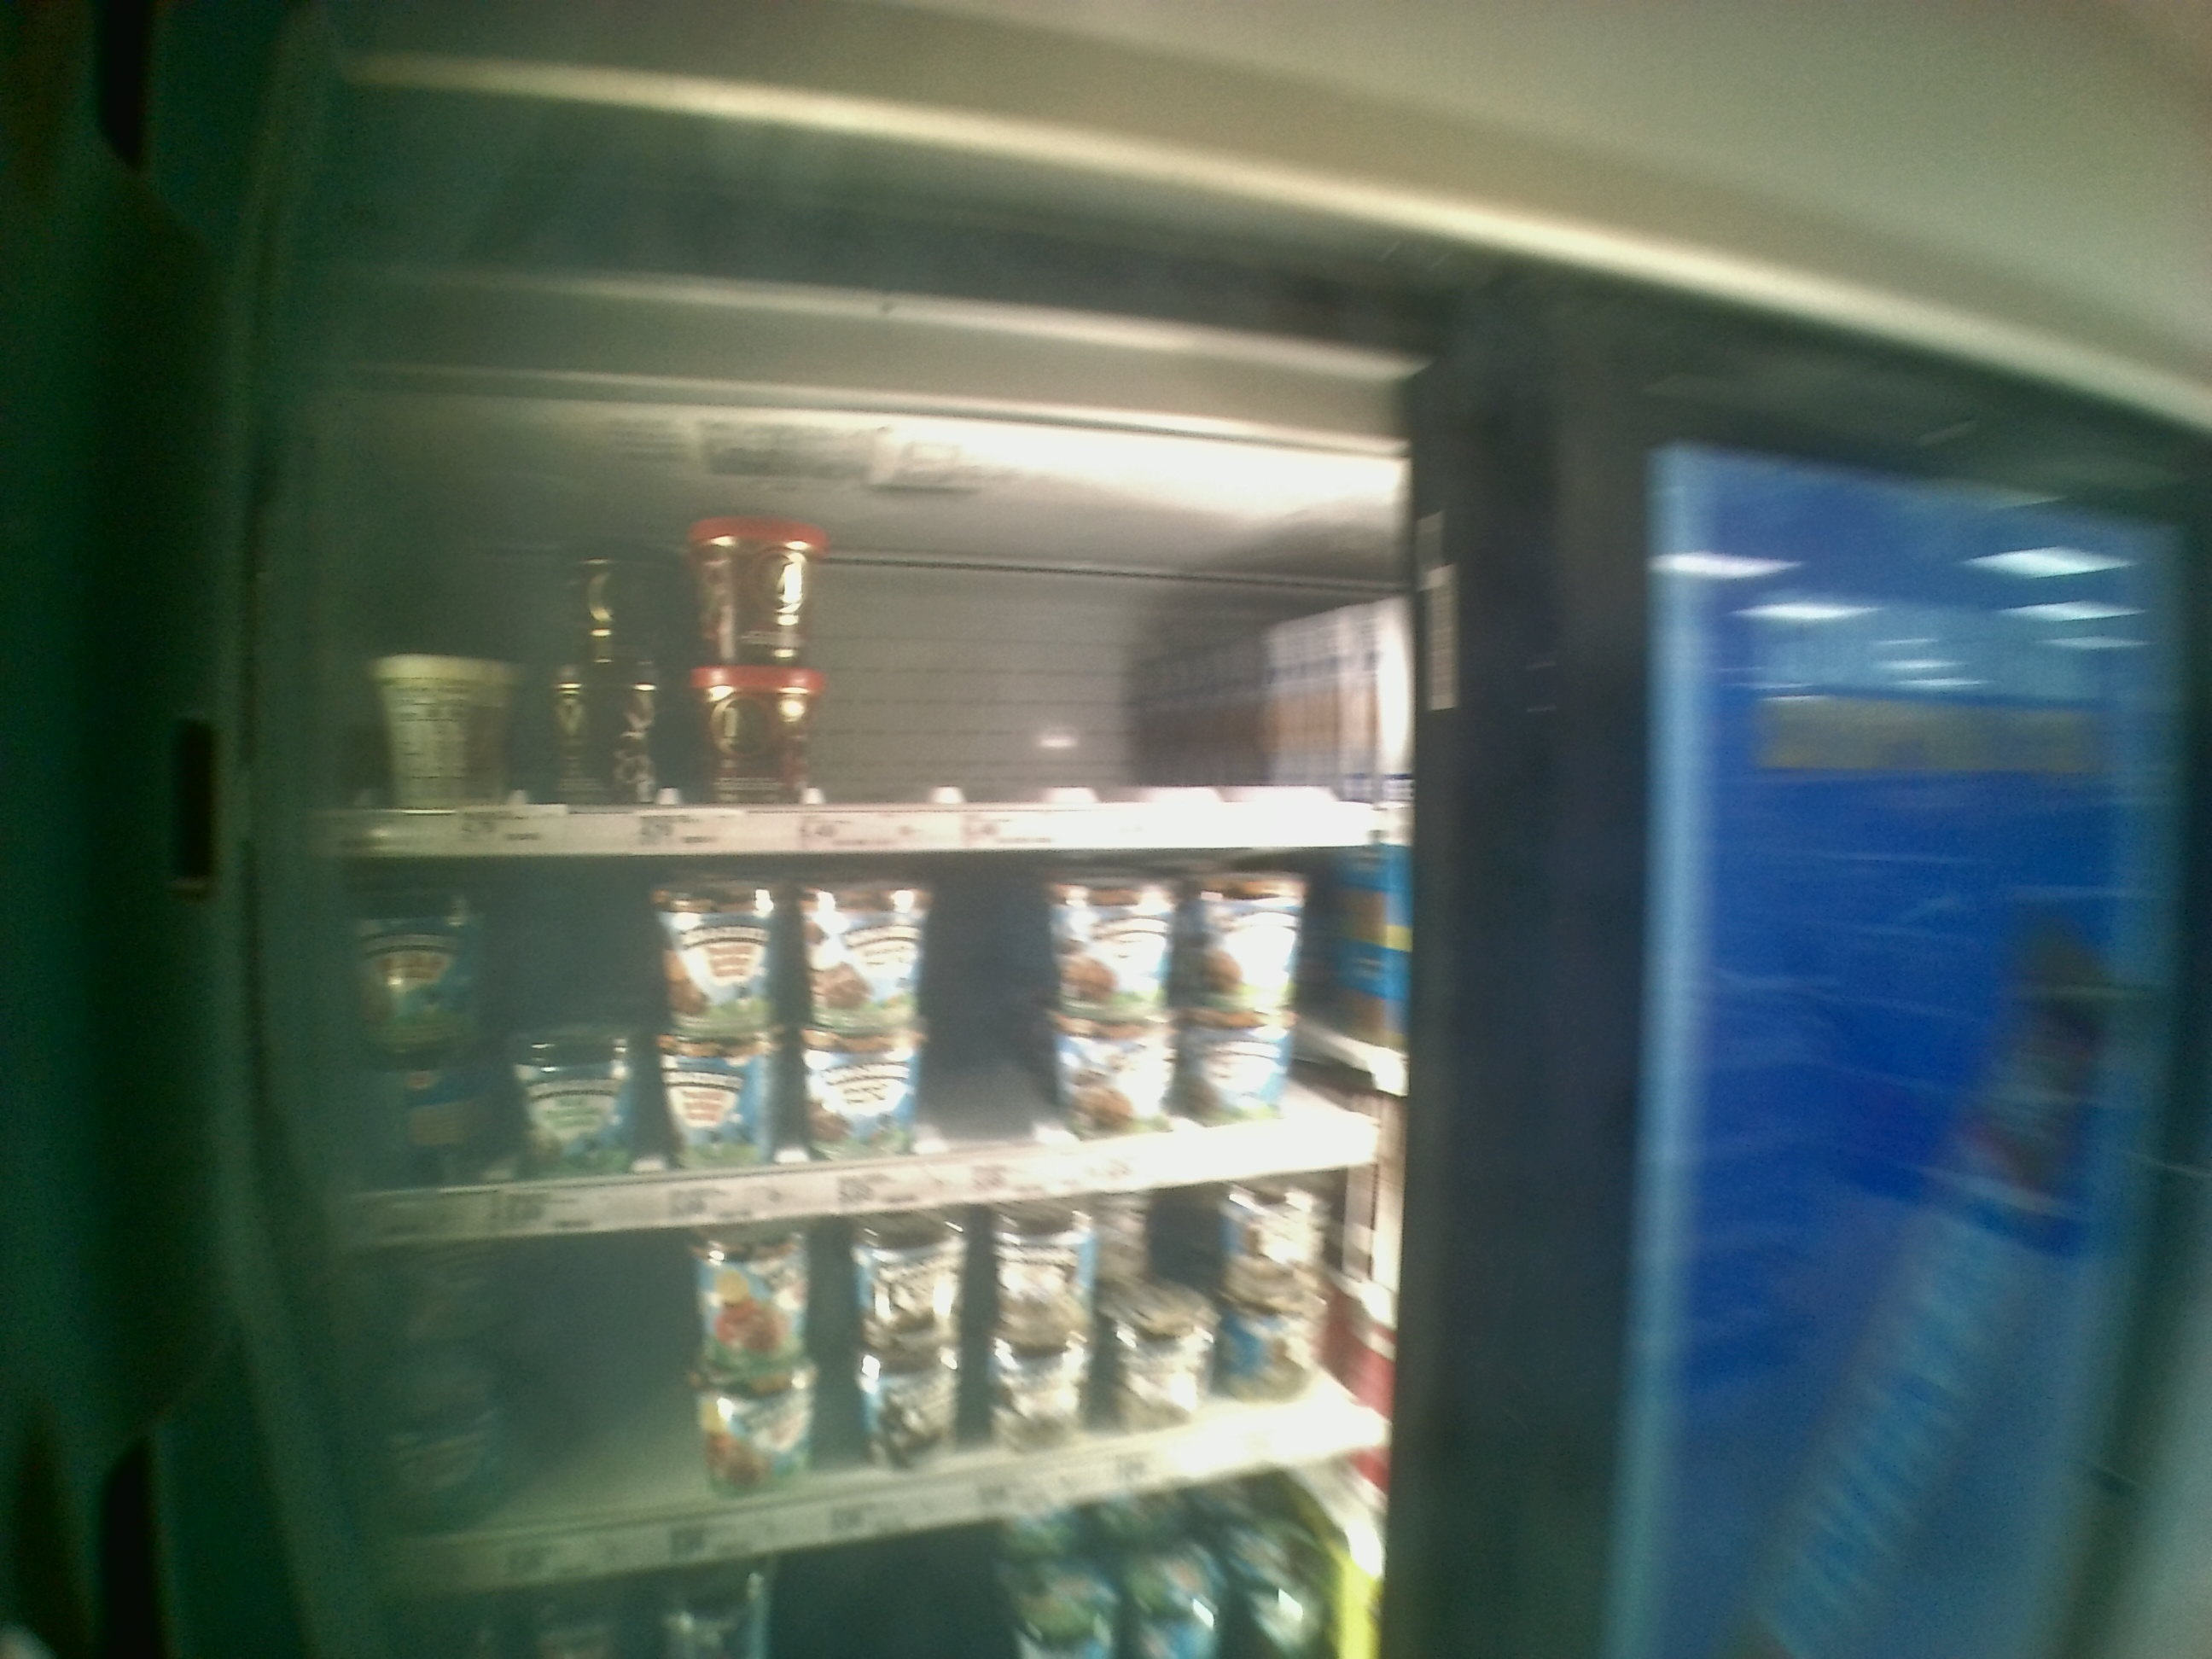shelf: (354, 420, 1418, 849), (354, 854, 1423, 1248)
